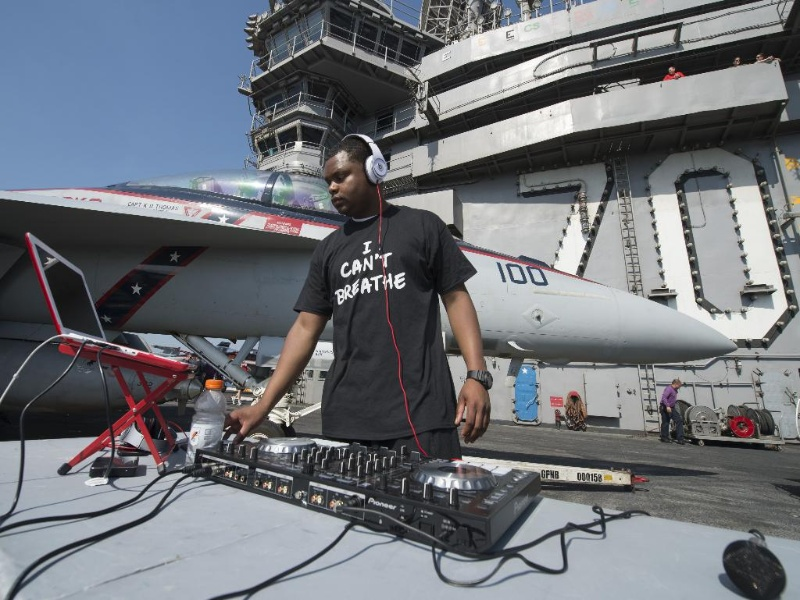laptop: (15, 226, 191, 378)
person: (250, 134, 502, 449), (650, 371, 691, 443)
